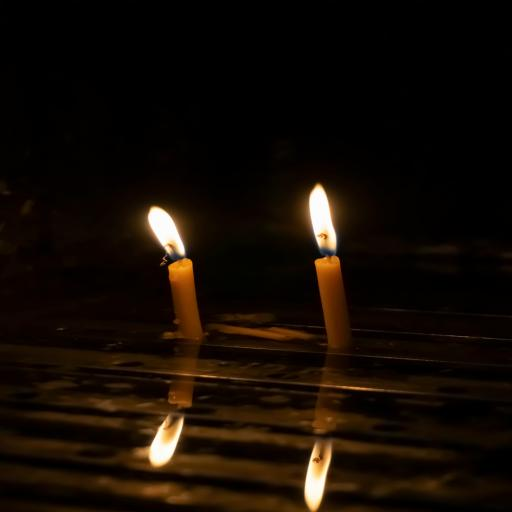candlelight: (126, 196, 234, 343), (294, 174, 366, 346)
